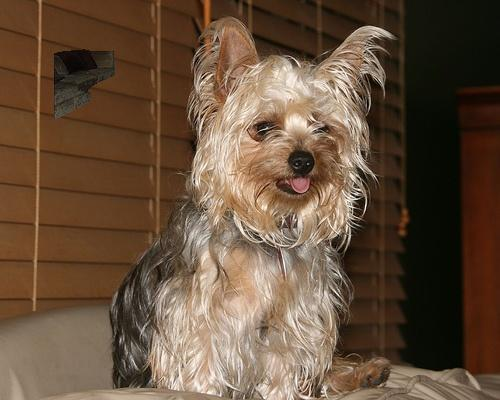tampered: (55, 50, 115, 119)
